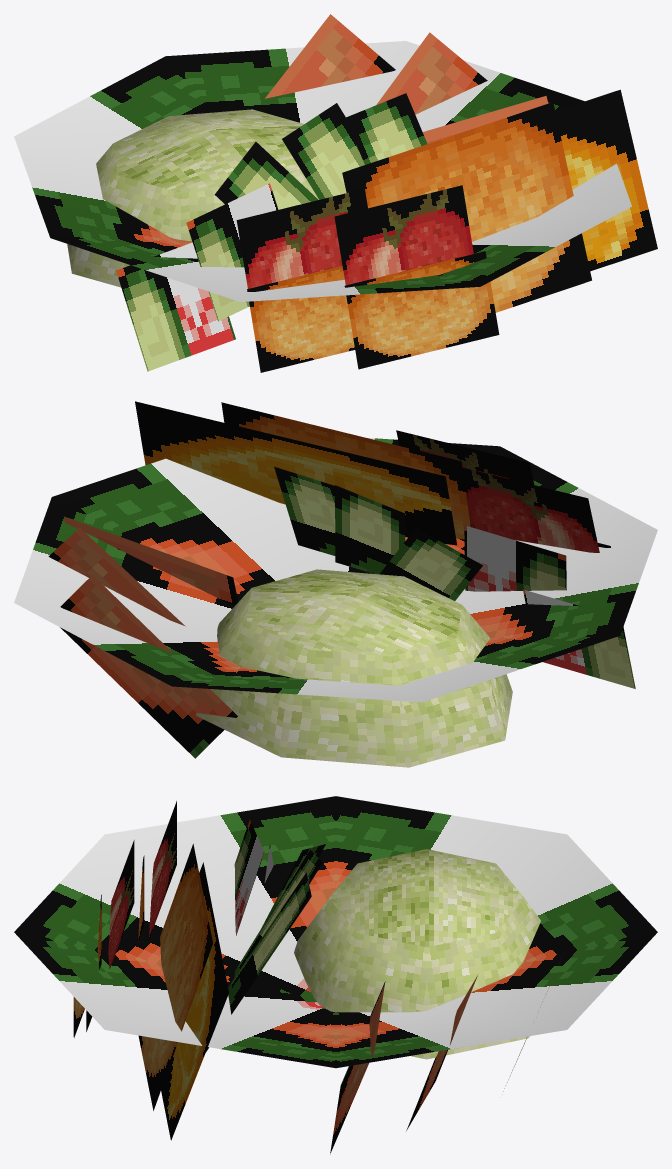
3 renders of one model, top to bottom at view 1: azimuth 30°, elevation 25°; view 2: azimuth 150°, elevation 25°; view 3: azimuth 270°, elevation 25°, orthographic. The views are drawn at different scales.
Parts seen in each view (by area): view 1: 5538u_fri00_ls; view 2: 5538u_fri00_ls; view 3: 5538u_fri00_ls.
Boxes of the visible parts, <box> form: 5538u_fri00_ls: <box>14,14,657,372</box>; 5538u_fri00_ls: <box>14,401,657,767</box>; 5538u_fri00_ls: <box>14,796,657,1154</box>.
Size of the model in its own units: 0.896 by 0.333 by 0.896.
Materials: 5 (5 with a texture image).
